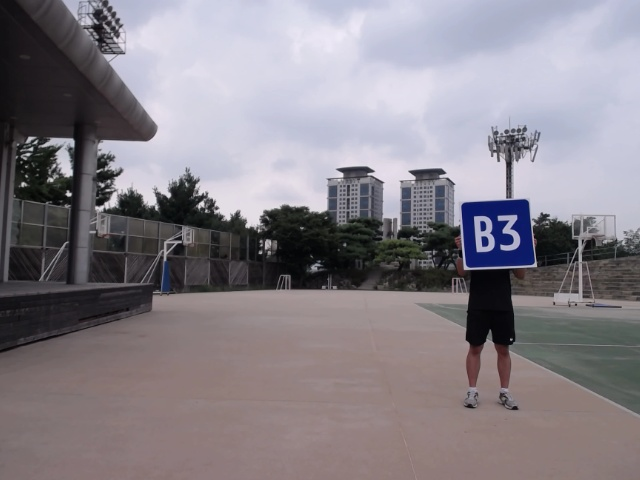delivery_b3: (459, 200, 538, 269)
